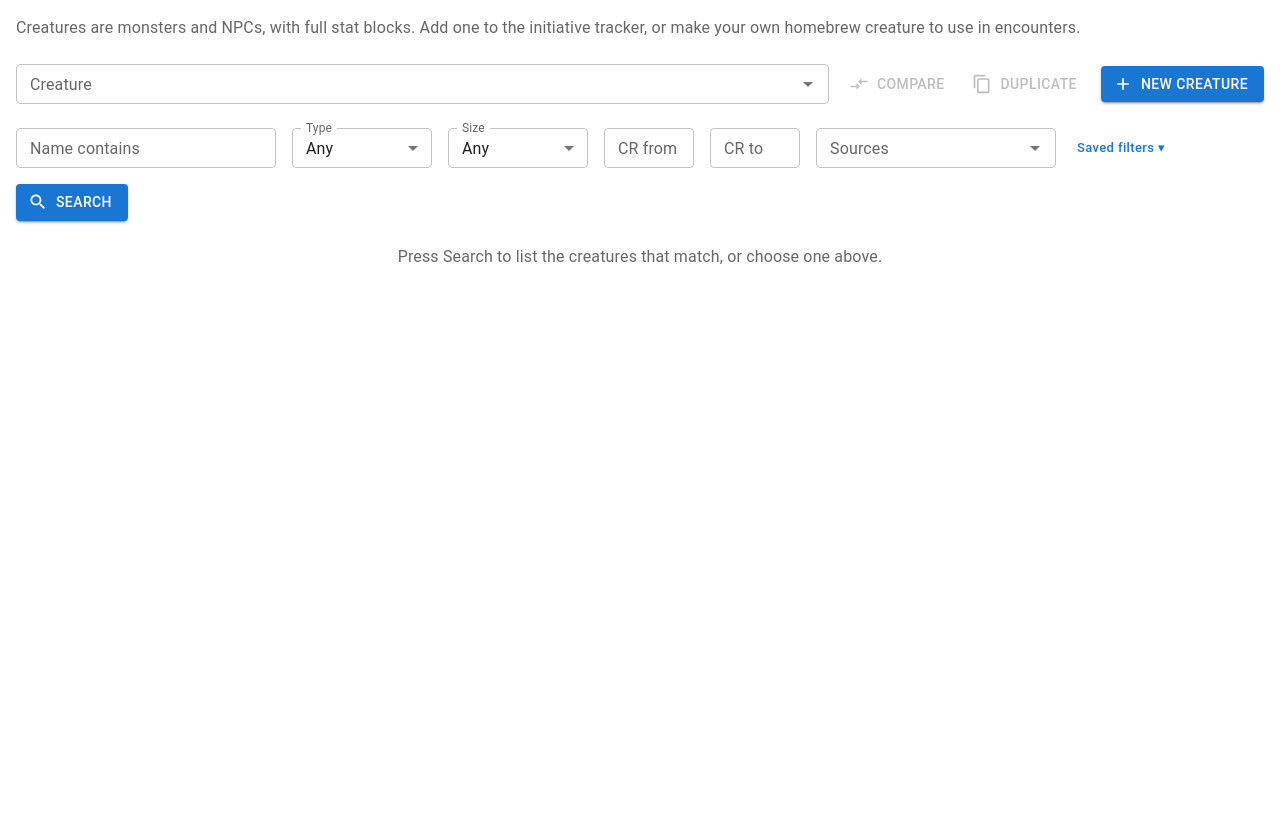
Scenario: changing your own creatures › edits the creature in the editor and shows it saved
Type "Gribble" into the dropdown labelled "Creature" at (406, 84), box [22, 70, 790, 98]
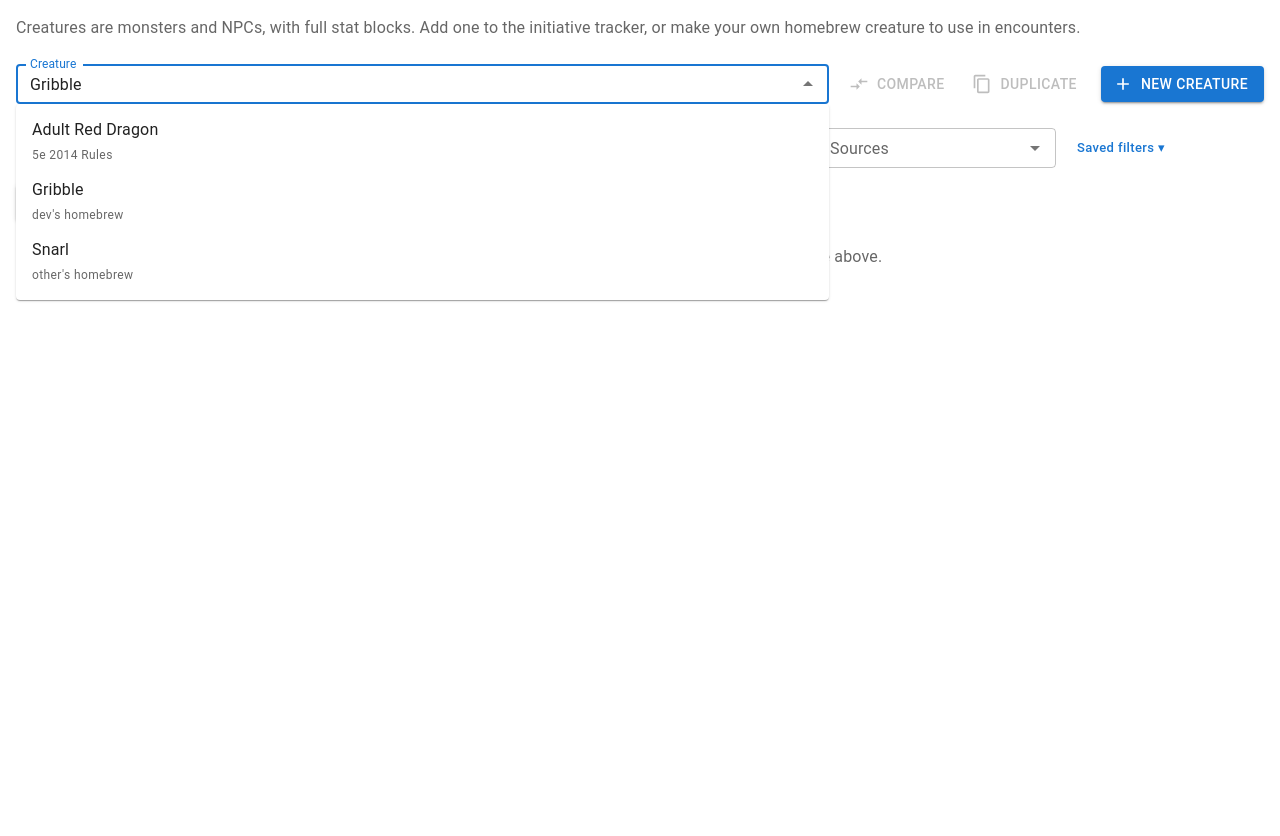
Click the option "Gribble dev's homebrew" at (78, 201), box [32, 180, 124, 222]
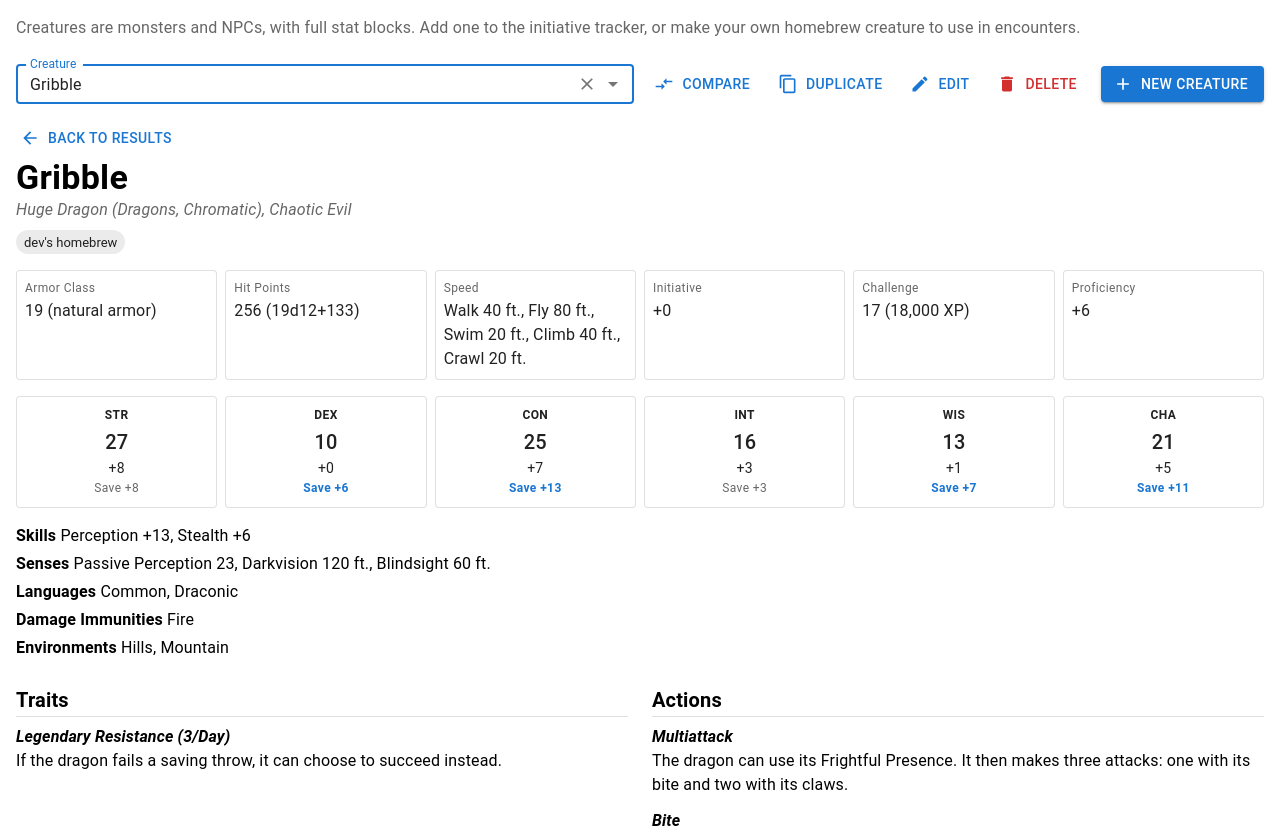
Click the button "Edit" at (942, 84), box [906, 66, 977, 102]
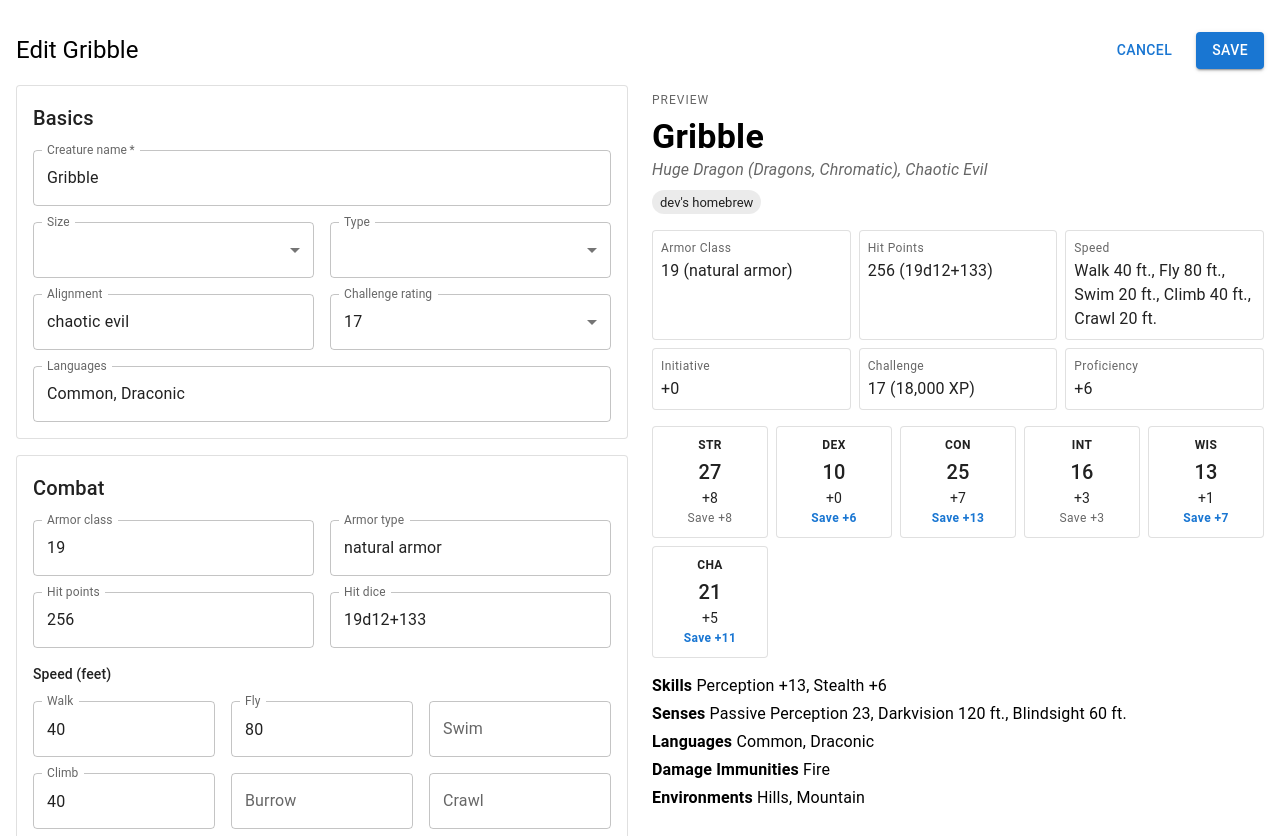
Expected: the heading "Edit Gribble" is shown, [16, 36, 138, 64]
Replace the text in the field labelled "Creature name *" with "Gribble the Great" at (322, 178), box [33, 150, 611, 206]
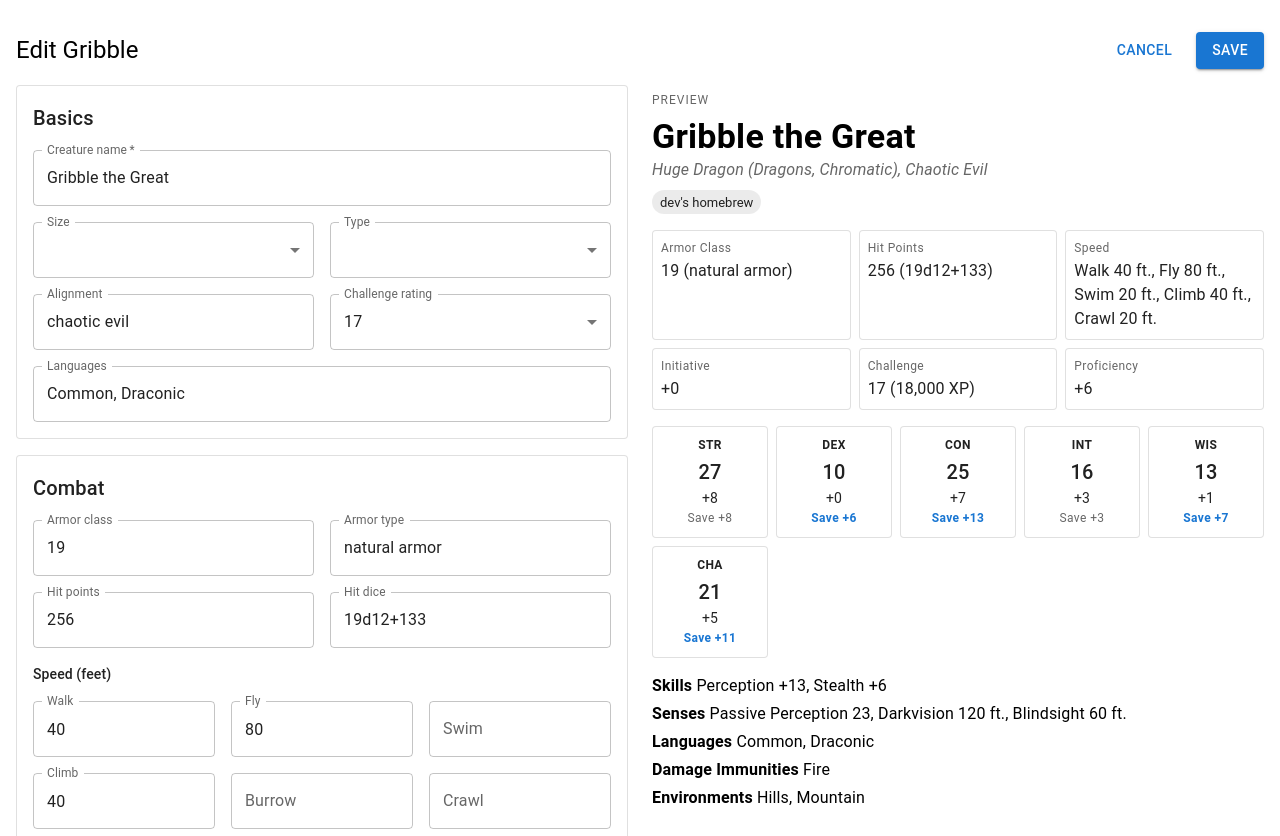
Click the button "Save" at (1230, 50), box [1196, 32, 1264, 68]
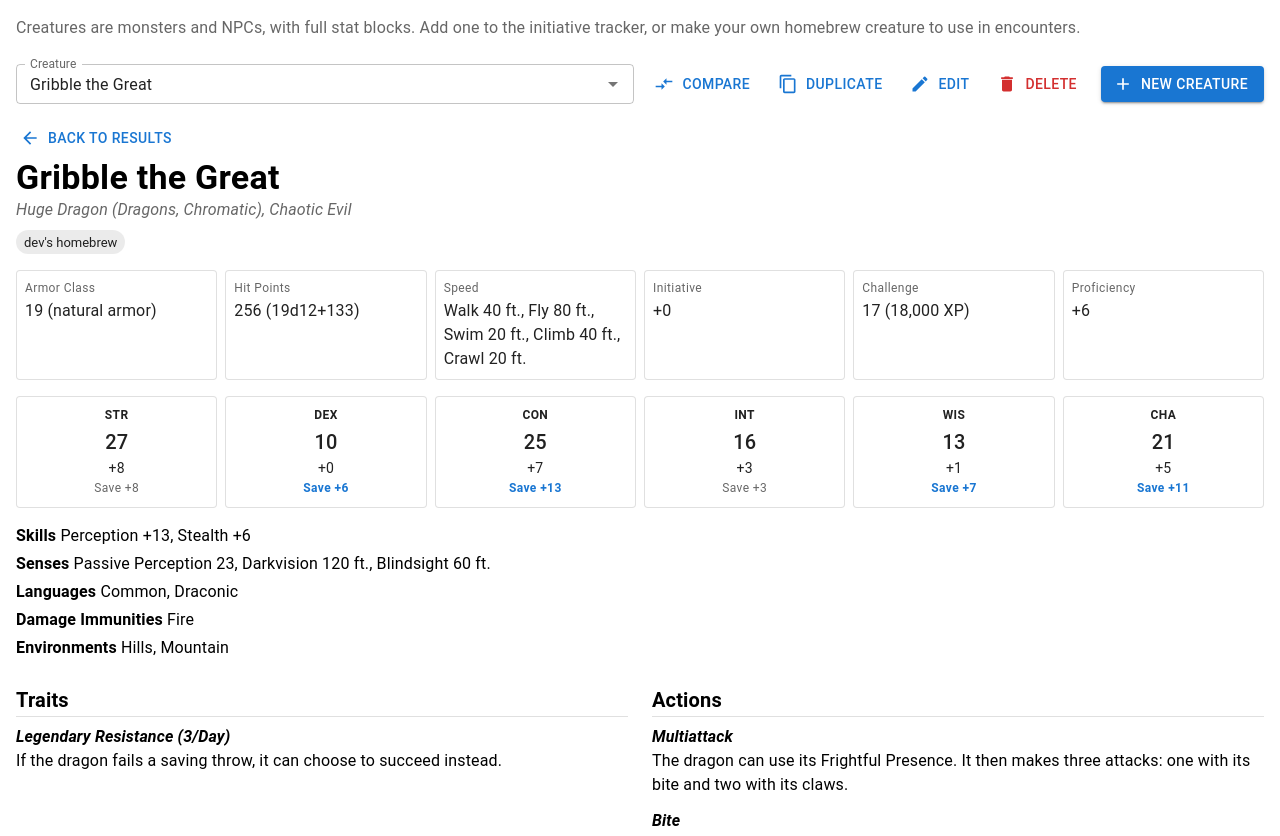
Expected: the heading "Gribble the Great" is shown, [16, 156, 280, 196]
Expected: the button "Duplicate" is shown, [774, 66, 890, 102]
